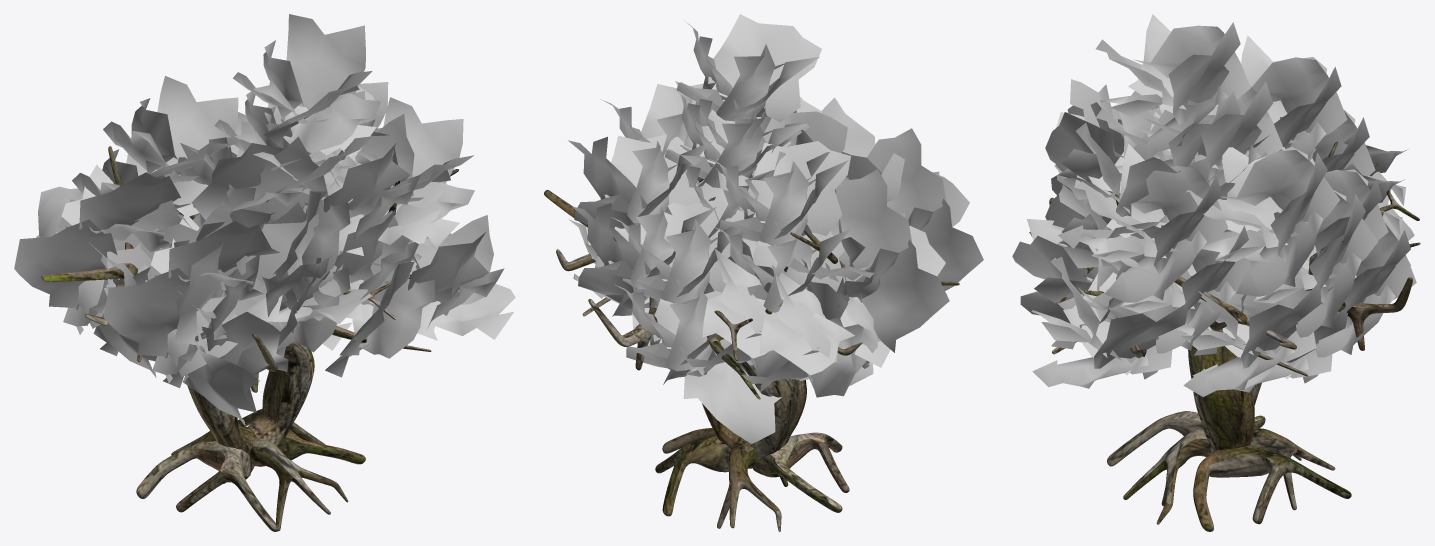
File: treeFix.fbx
3 renders of one model, left to right at view 1: azimuth 30°, elevation 25°; view 2: azimuth 150°, elevation 25°; view 3: azimuth 270°, elevation 25°, orthographic. The views are drawn at different scales.
Parts seen in each view (by area): view 1: Plane.139, Plane.136, Plane.134, Plane.132, Plane.001, Plane.135, Plane.140, Plane.133, Plane.138, Plane.137; view 2: Plane.135, Plane.137, Plane.139, Plane.140, Plane.001, Plane.138, Plane.134, Plane.132, Plane.136, Plane.133; view 3: Plane.136, Plane.138, Plane.139, Plane.001, Plane.140, Plane.137, Plane.133, Plane.135, Plane.132, Plane.134.
Boxes of the visible parts, x1,y1,x2,y2 form: Plane.139: (214, 14, 443, 286); Plane.136: (325, 97, 515, 377); Plane.134: (103, 213, 295, 426); Plane.132: (156, 120, 371, 381); Plane.001: (41, 146, 458, 531); Plane.135: (14, 164, 190, 377); Plane.140: (72, 76, 240, 355); Plane.133: (234, 91, 437, 356); Plane.138: (231, 82, 388, 157); Plane.137: (163, 112, 352, 388); Plane.135: (685, 169, 949, 397); Plane.137: (611, 199, 809, 443); Plane.139: (664, 14, 875, 187); Plane.140: (708, 141, 945, 385); Plane.001: (544, 177, 959, 531); Plane.138: (568, 134, 716, 370); Plane.134: (849, 128, 983, 290); Plane.132: (708, 111, 969, 256); Plane.136: (600, 83, 715, 201); Plane.133: (671, 84, 821, 237); Plane.136: (1012, 144, 1250, 388); Plane.138: (1176, 146, 1378, 396); Plane.139: (1045, 14, 1283, 248); Plane.001: (1049, 141, 1420, 531); Plane.140: (1241, 35, 1375, 176); Plane.137: (1192, 169, 1416, 392); Plane.133: (1045, 91, 1267, 312); Plane.135: (1308, 134, 1414, 265); Plane.132: (1026, 102, 1277, 247); Plane.134: (1029, 79, 1124, 281).
Size of the model in its own units: 1891 by 2008 by 1467.
